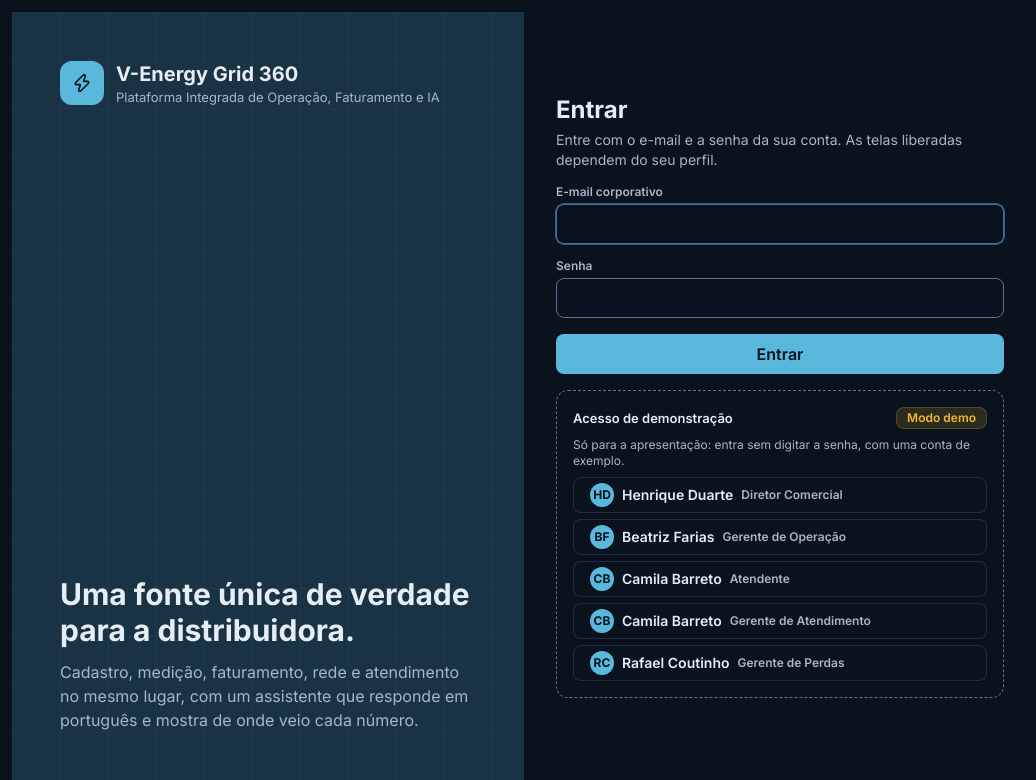
it: LoginPage › formulário › pede a senha quando ela está vazia
Type "diretor@venergy.com" into the field labelled "E-mail corporativo" at (780, 224), box [556,204,1004,244]
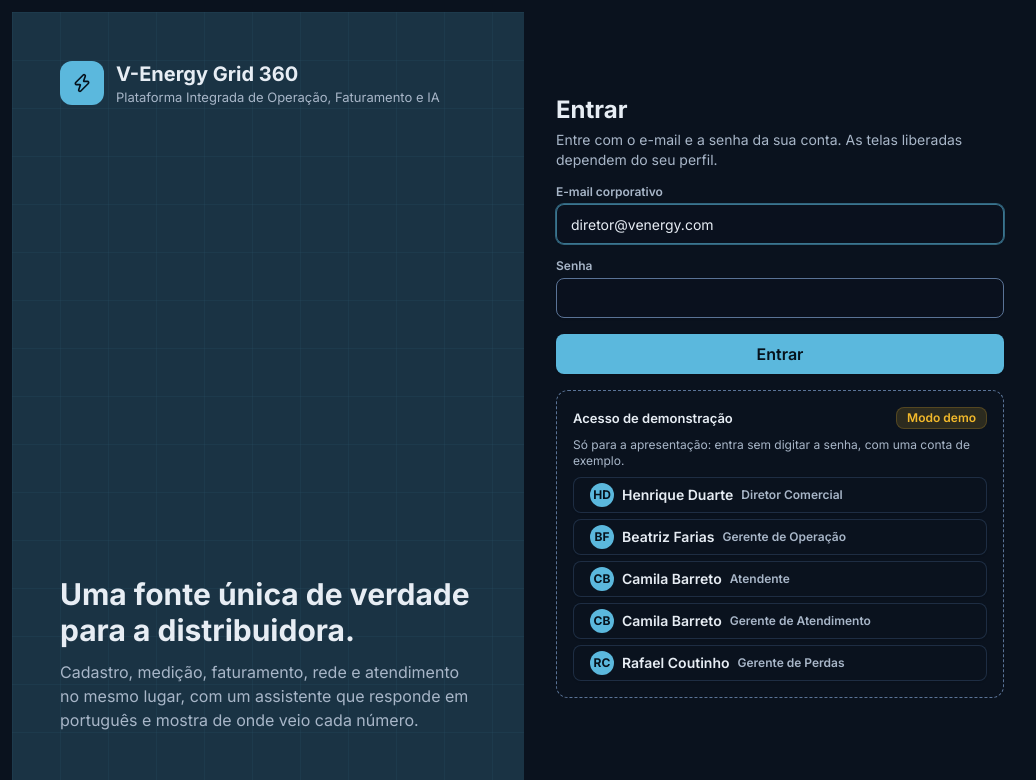
Submit the form labelled "Senha", box [556,186,1004,374]
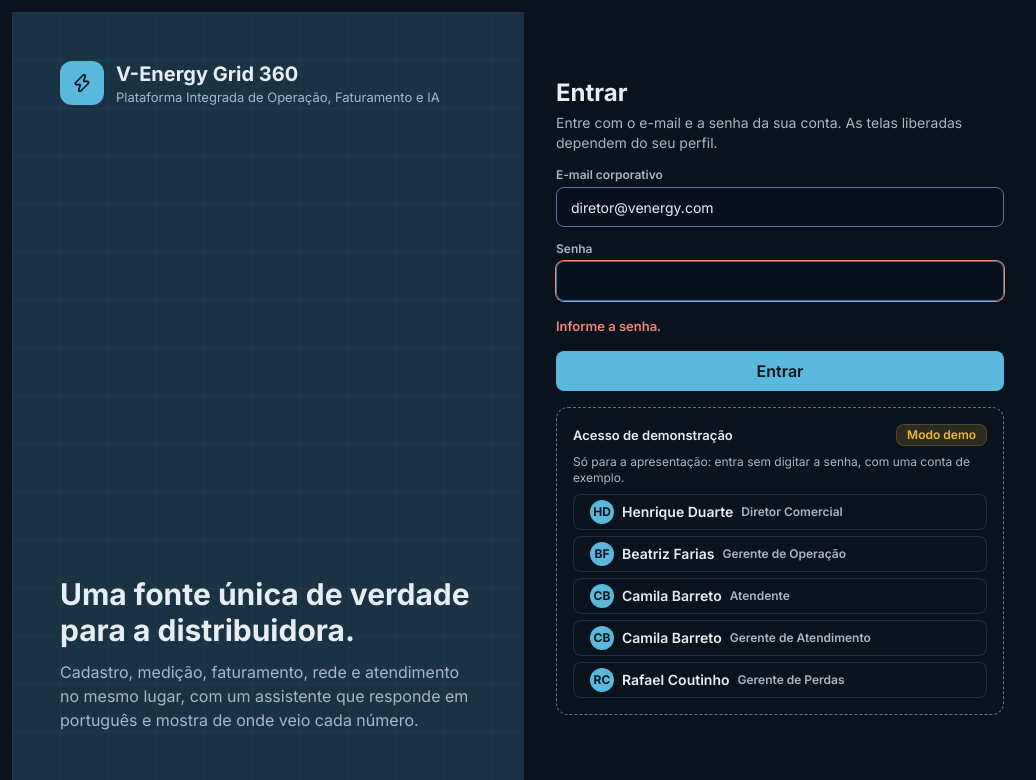
Check: the message reads "Informe a senha.", box [556,318,661,334]
